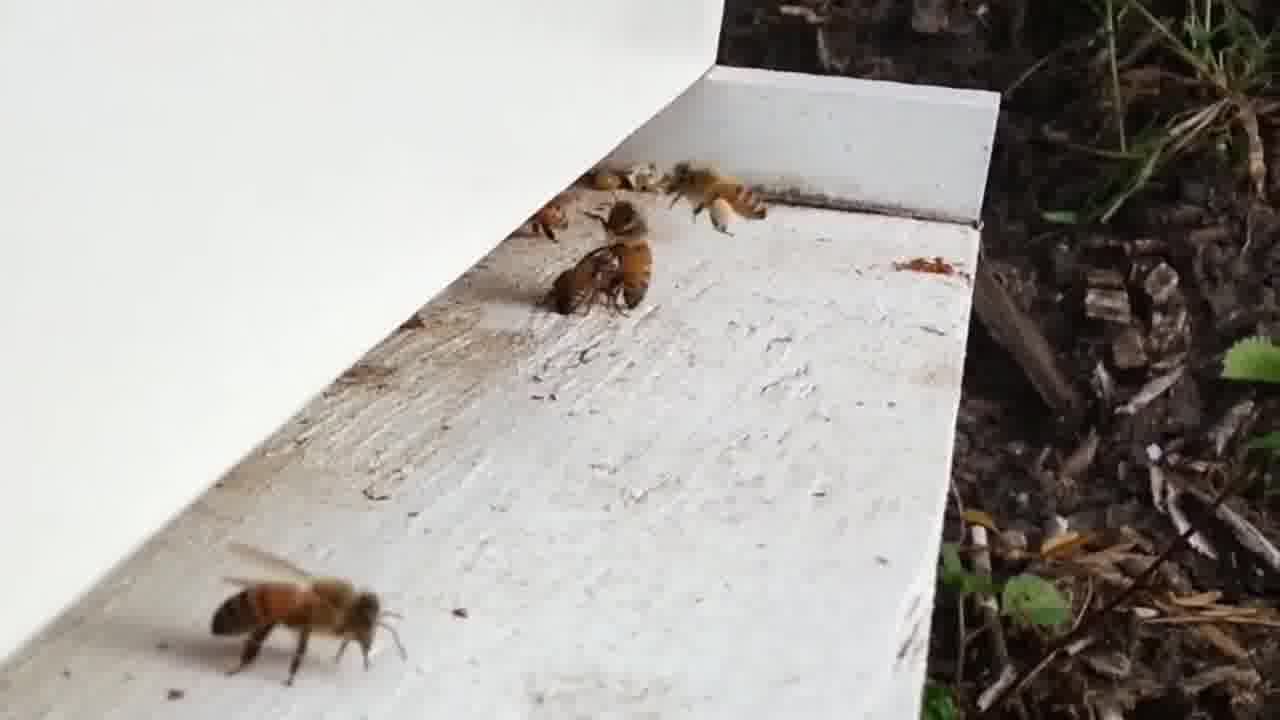pollen: (666, 163, 775, 236)
